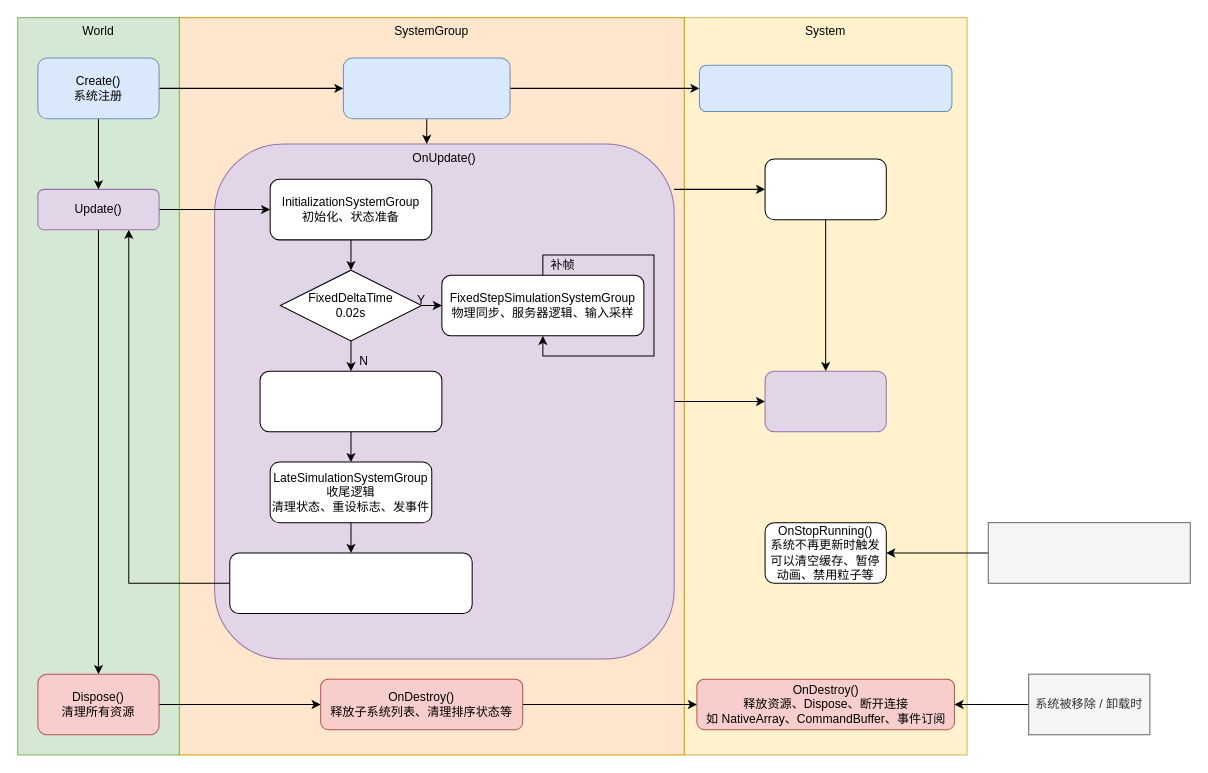
Image size: 1208x773. Some labels were removed from this diagram. The centre of each missing label's shape, as x and y in pixels:
"Create() 注册子系统、自定义调度顺序" belongs at (x=426, y=88).
"EntityQuery 不再匹配了/ 系统被动态禁用了/ SystemGroup 被手动禁用或移除" belongs at (x=1088, y=552).
"OnCreate() 注册查询、初始化 NativeArray、加载资源等" belongs at (x=825, y=88).
"OnStartRunning() 第一次运行前触发 适合初始化逻辑状态" belongs at (x=825, y=189).
"OnUpdate() 每帧逻辑主流程 （查询 + Job）" belongs at (x=825, y=401).
"PresentationSystemGroup 渲染准备阶段 Hybrid Renderer、Camera、UI 输入采集等" belongs at (x=350, y=583).
"SimulationSystemGroup 主游戏逻辑阶段 如 AI、行为、动画等自定义系统" belongs at (x=350, y=401).
